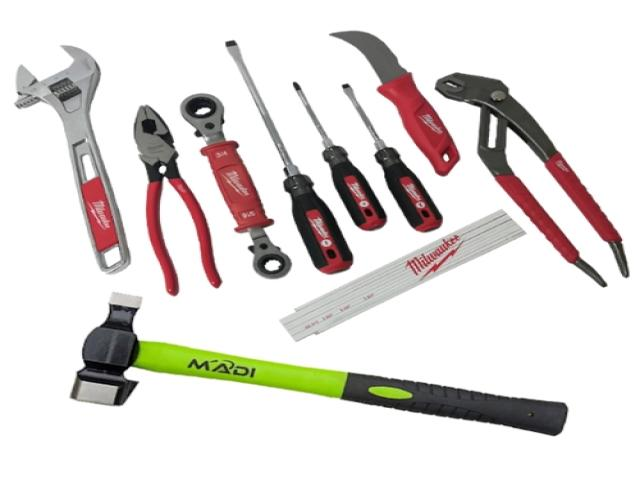Adjustable spanner: (15, 46, 130, 273)
Gas wrench: (436, 73, 628, 277)
Hammer: (71, 292, 568, 435)
Pliers: (134, 105, 221, 295)
Screwdriver: (228, 40, 351, 274), (344, 84, 441, 232), (294, 82, 385, 230)
Wrench: (181, 95, 291, 278)
